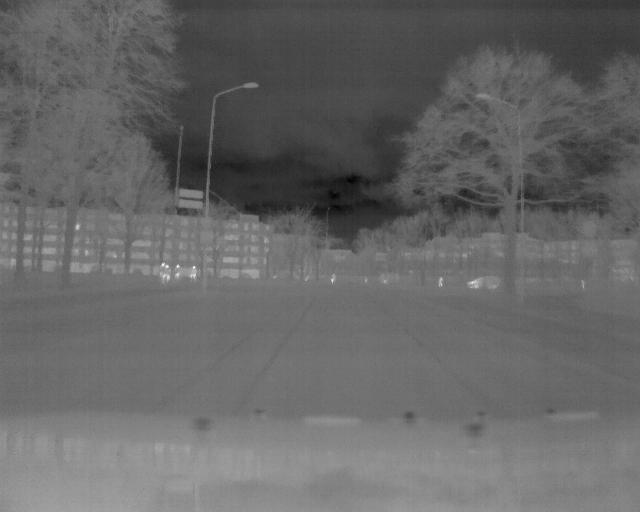car: (466, 275, 502, 293)
person: (162, 262, 171, 286), (328, 272, 337, 288), (175, 264, 182, 283), (190, 264, 197, 282), (437, 275, 445, 289)
